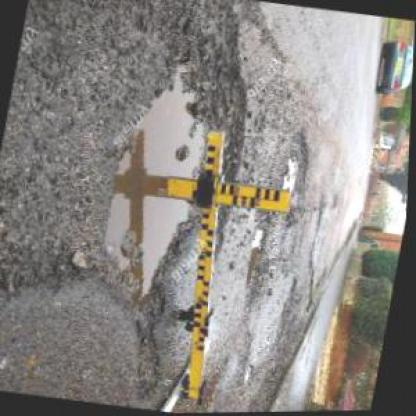pothole: (46, 0, 274, 334), (274, 130, 322, 230), (242, 224, 272, 300)
